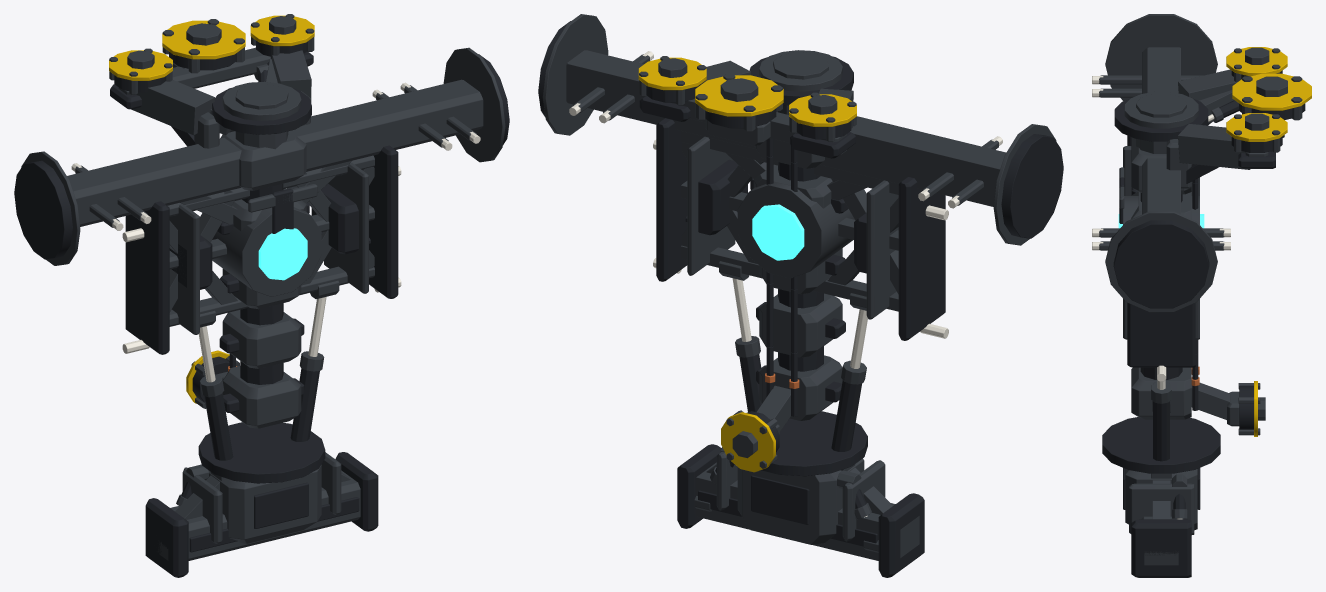
The model's file is Skel_TorsoHumanoid_Heavy.fbx.
3 renders of one model, left to right at view 1: azimuth 30°, elevation 25°; view 2: azimuth 150°, elevation 25°; view 3: azimuth 270°, elevation 25°, orthographic. The views are drawn at different scales.
Visible parts, largest first — view 1: Skel_TorsoHumanoid_Heavy; view 2: Skel_TorsoHumanoid_Heavy; view 3: Skel_TorsoHumanoid_Heavy.
Boxes of the visible parts, <box> form: Skel_TorsoHumanoid_Heavy: <box>14,14,509,577</box>; Skel_TorsoHumanoid_Heavy: <box>538,14,1063,577</box>; Skel_TorsoHumanoid_Heavy: <box>1092,14,1311,577</box>.
Size of the model in its own units: 1.95 by 1.97 by 0.8745.
